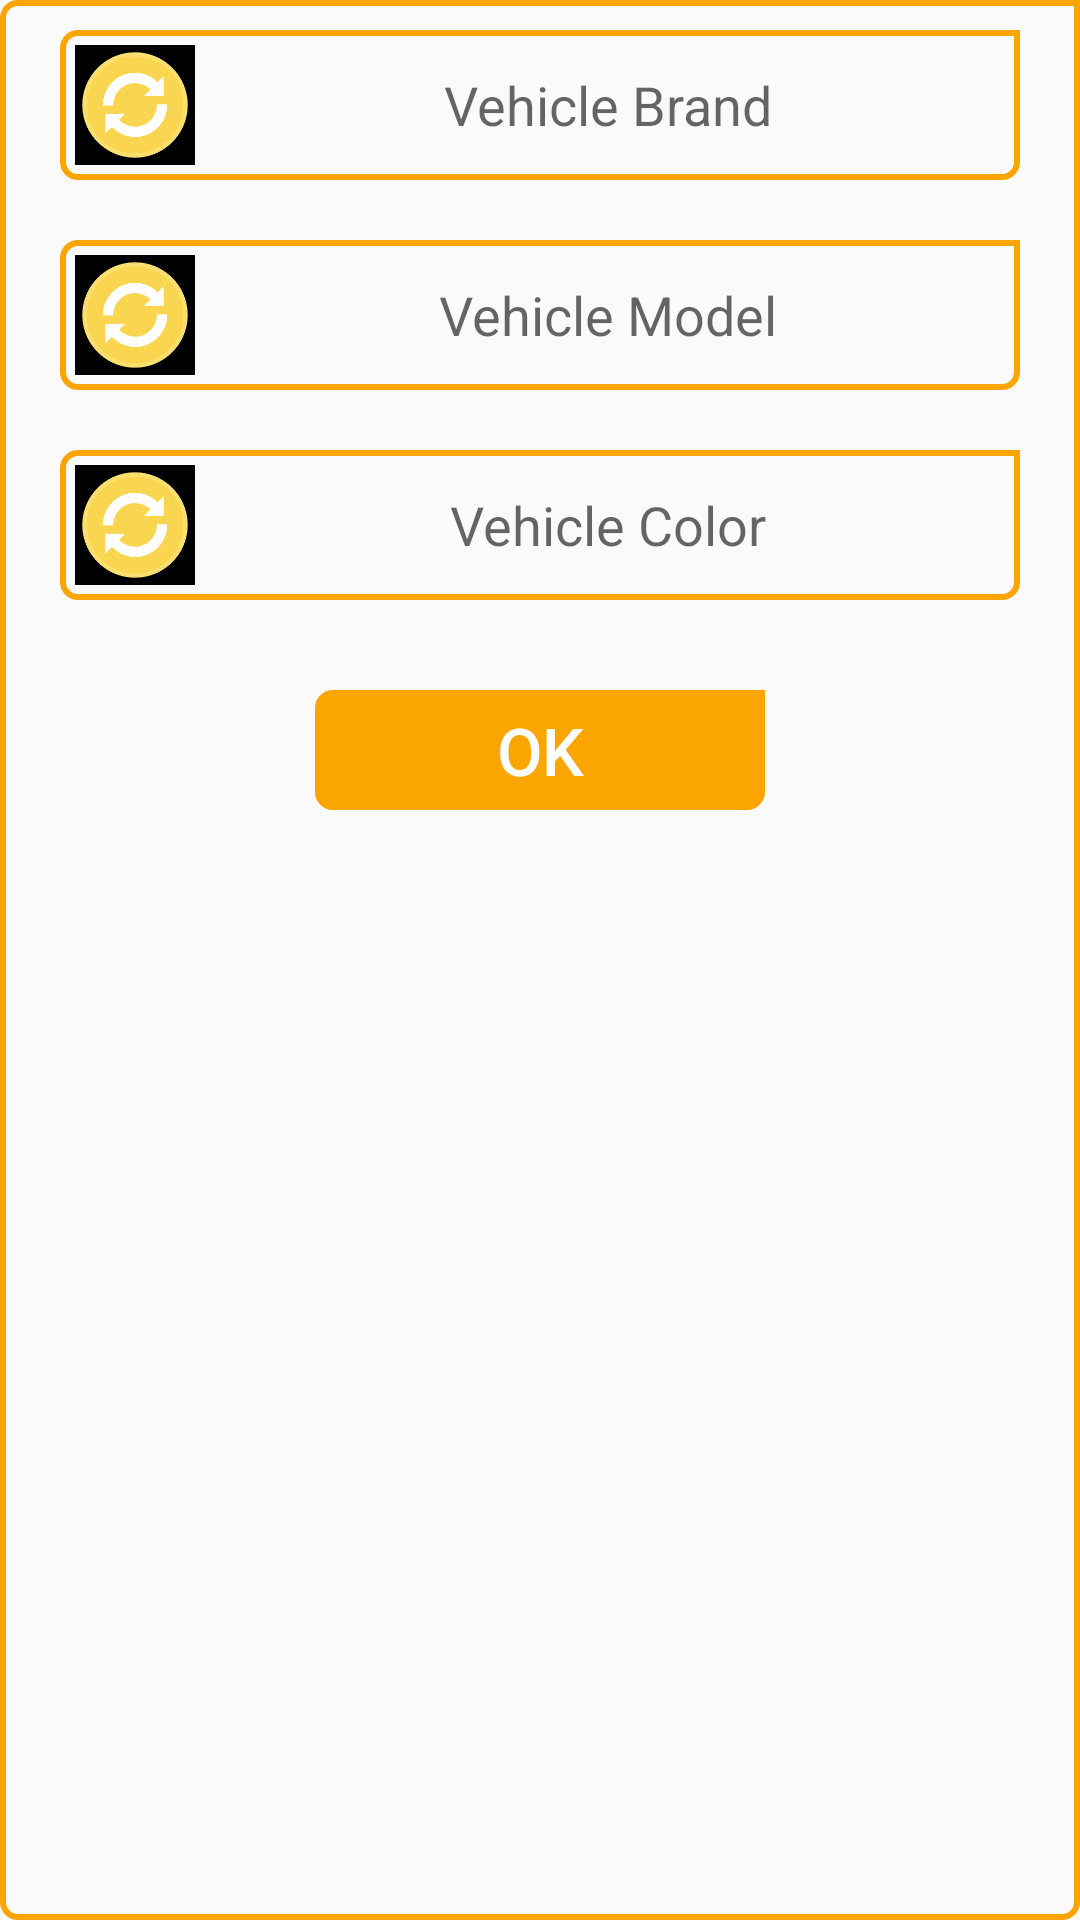

Icon bounding boxes for this 1080x1920 phone screenshot, format (x1, y1, x2, y2):
sync: (75, 45, 195, 165), (75, 255, 195, 375), (75, 465, 195, 585)
